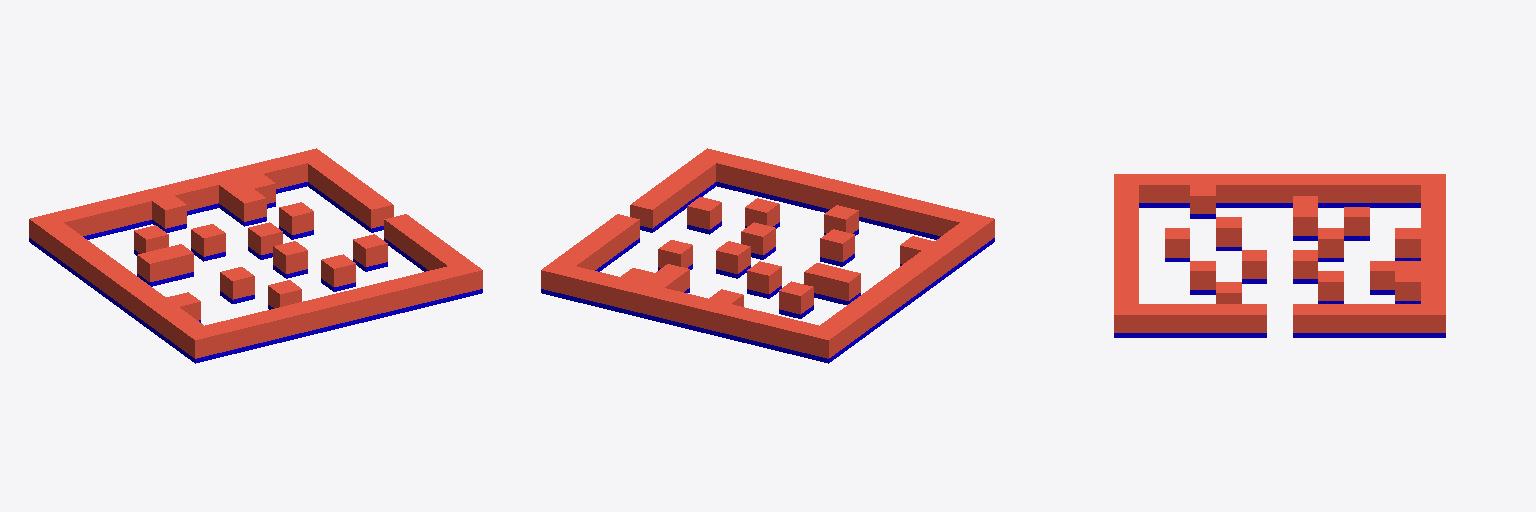
File: map8.obj
The picture shows the model from 3 angles: view 1: azimuth 30°, elevation 25°; view 2: azimuth 150°, elevation 25°; view 3: azimuth 270°, elevation 25°; orthographic projection.
Parts seen in each view (by area): view 1: mergedBlocks; view 2: mergedBlocks; view 3: mergedBlocks.
Part boxes in pixels (x1,y1,x2,y2): mergedBlocks: (29, 148, 482, 363); mergedBlocks: (541, 148, 994, 363); mergedBlocks: (1114, 174, 1445, 337).
Size of the model in its own units: 13 by 1 by 13.